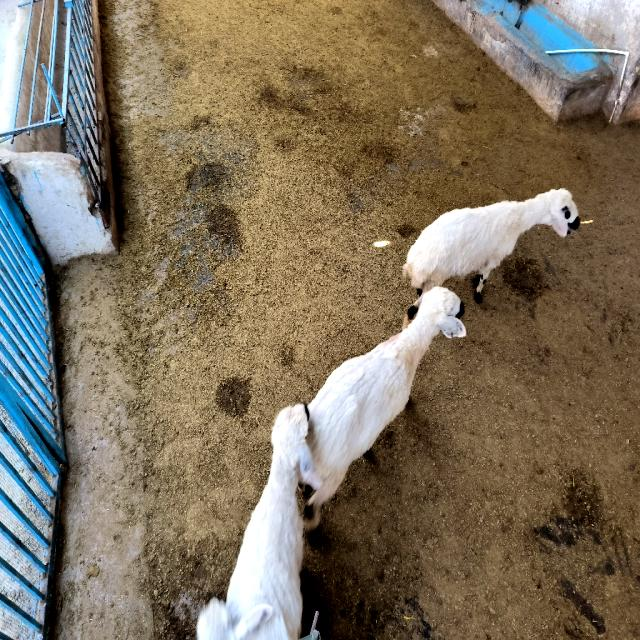sheep: (305, 287, 466, 530), (196, 403, 321, 638), (402, 188, 580, 301)
